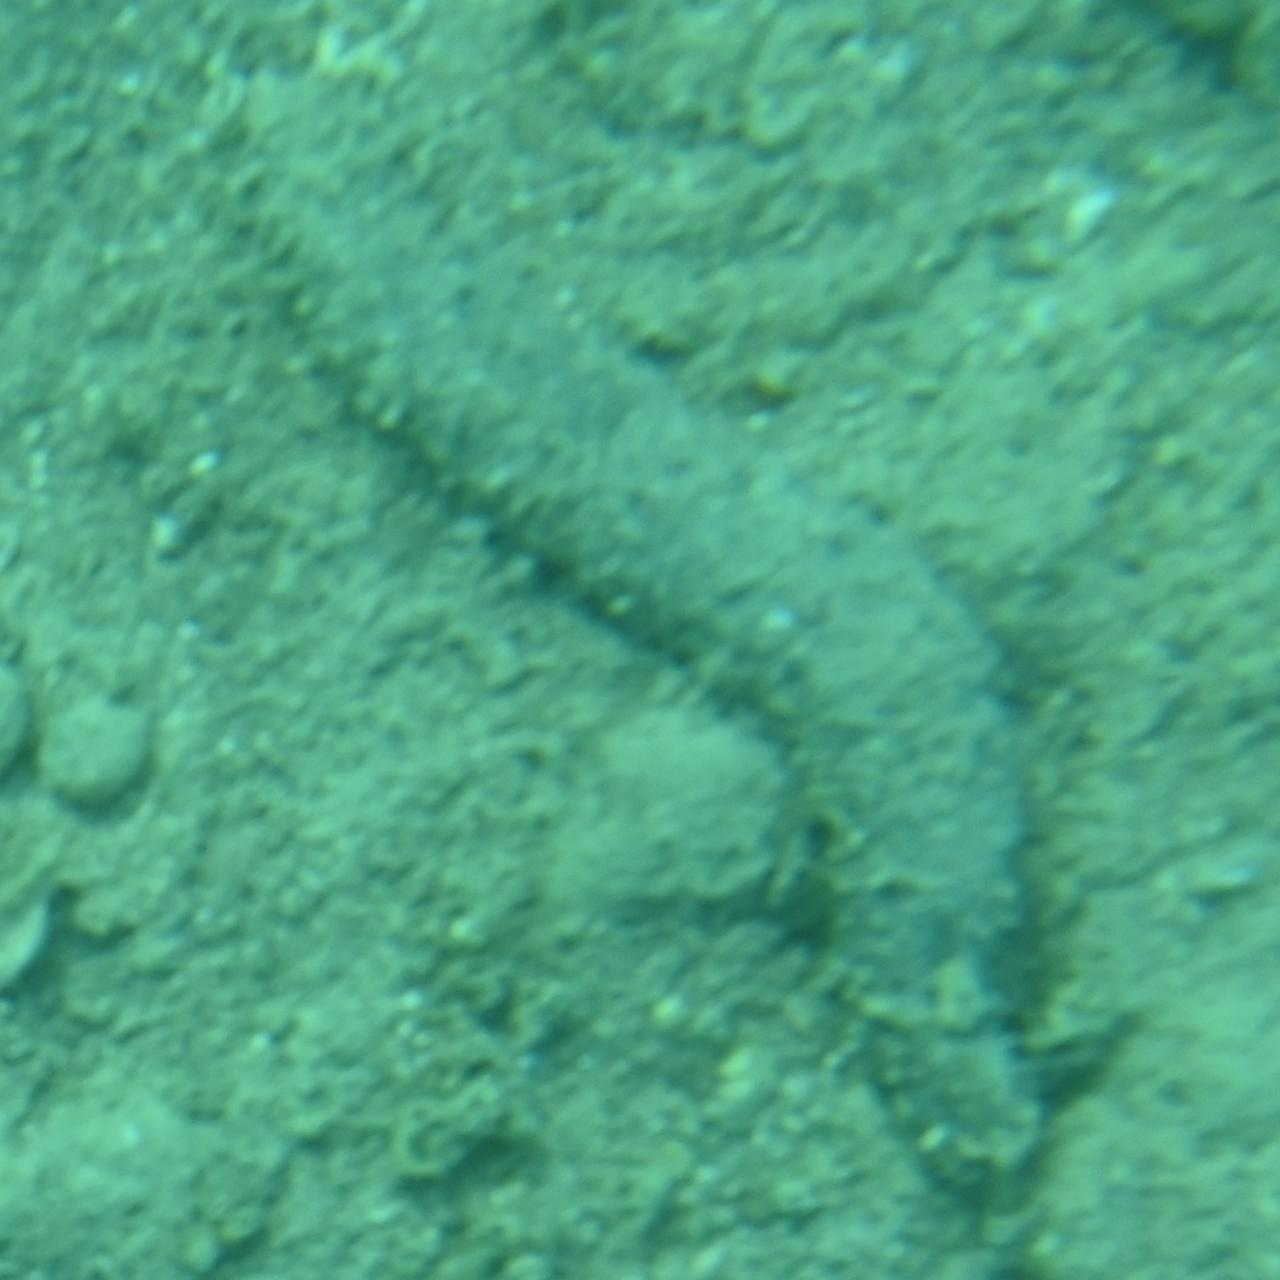Holothuria tubulosa: (203, 80, 1077, 1200)
